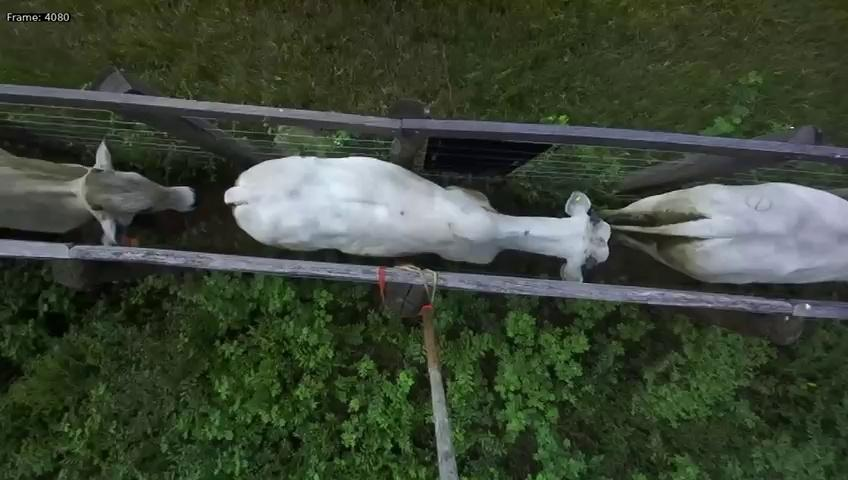cattle: (219, 122, 614, 279), (620, 173, 848, 291), (0, 129, 203, 251)
